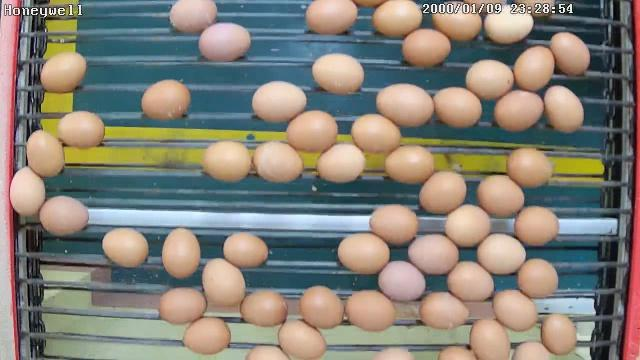egg: (374, 81, 436, 128), (284, 108, 340, 154), (250, 80, 308, 124), (200, 256, 247, 310), (344, 286, 396, 334), (310, 52, 366, 96), (336, 232, 391, 276), (404, 232, 460, 275), (492, 88, 545, 133), (475, 231, 528, 276), (197, 21, 252, 64), (38, 194, 91, 238), (417, 169, 467, 215), (140, 78, 192, 122), (275, 316, 327, 360), (350, 112, 402, 156), (160, 225, 201, 280), (443, 202, 492, 248), (38, 50, 88, 95), (253, 140, 304, 184), (432, 85, 483, 129), (383, 142, 436, 184), (297, 284, 345, 330), (476, 173, 526, 217), (200, 140, 252, 182), (430, 0, 482, 42), (446, 258, 494, 303), (464, 57, 514, 100), (504, 146, 554, 189), (368, 204, 418, 247), (377, 260, 428, 302), (544, 83, 586, 134), (156, 285, 208, 326), (492, 287, 540, 331), (56, 108, 106, 150), (24, 128, 66, 178), (316, 142, 366, 184), (401, 27, 452, 68), (238, 288, 290, 328), (418, 290, 470, 330), (513, 203, 560, 247), (8, 166, 47, 219), (512, 44, 555, 92), (483, 4, 534, 44), (370, 0, 422, 39), (303, 0, 359, 36), (102, 226, 150, 268), (182, 316, 232, 356), (468, 315, 512, 360), (516, 256, 560, 300), (550, 30, 592, 76), (222, 231, 270, 270), (166, 0, 218, 35), (540, 311, 578, 355)
